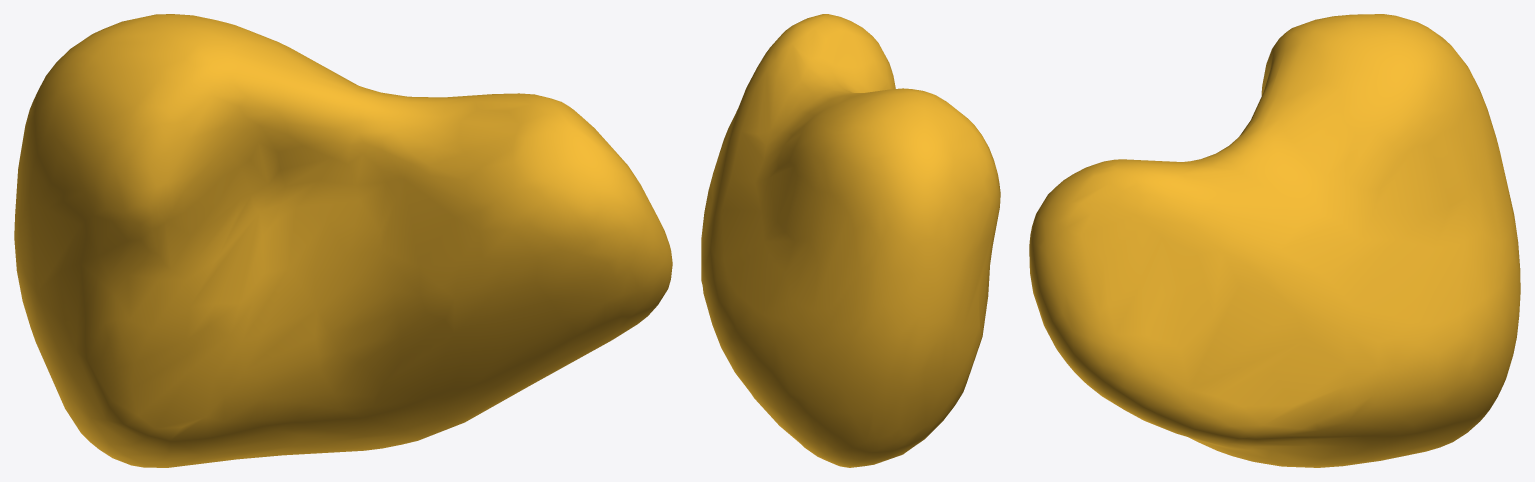
Rendered from nervoso-tonsil-of-cerebellum-l.glb.
3 renders of one model, left to right at view 1: azimuth 30°, elevation 25°; view 2: azimuth 150°, elevation 25°; view 3: azimuth 270°, elevation 25°, orthographic. The views are drawn at different scales.
Visible parts, largest first — view 1: Tonsil of cerebellum.l; view 2: Tonsil of cerebellum.l; view 3: Tonsil of cerebellum.l.
Boxes of the visible parts, left/top/right/bottom form: Tonsil of cerebellum.l: left=14, top=14, right=672, bottom=467; Tonsil of cerebellum.l: left=701, top=14, right=1000, bottom=467; Tonsil of cerebellum.l: left=1029, top=14, right=1520, bottom=467.
Size of the model in its own units: 0.0217 by 0.0205 by 0.0224.
